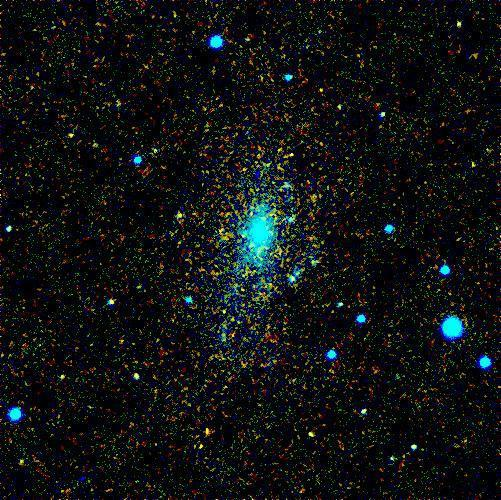star: (171, 195, 201, 225)
